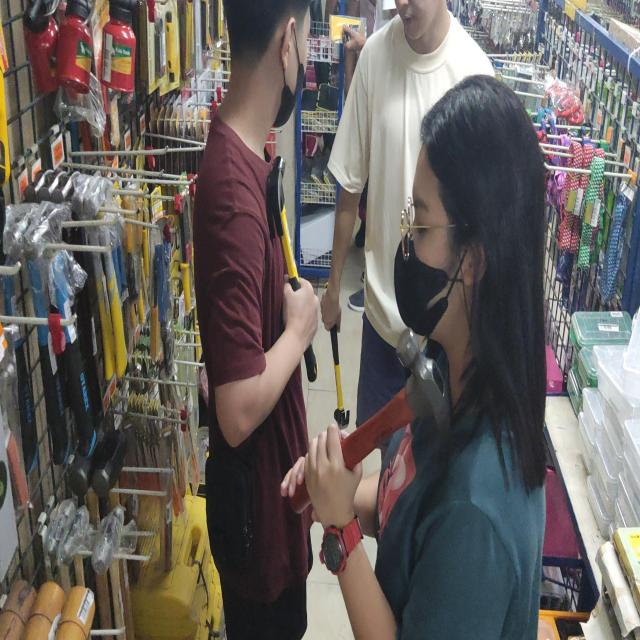hammer: (288, 328, 449, 514), (266, 156, 318, 383), (324, 281, 350, 429)
